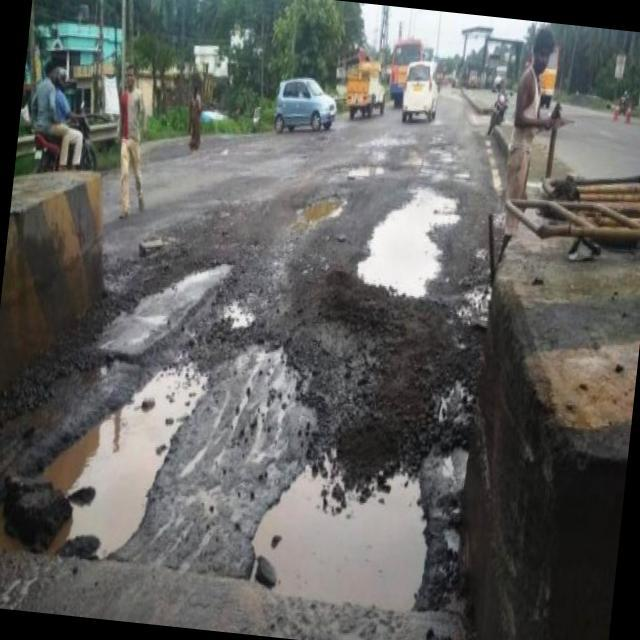Burst: (48, 369, 209, 559), (252, 471, 433, 610)
